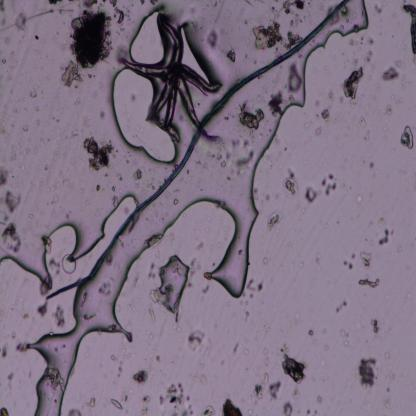Air bubble: (26, 274, 134, 414), (0, 218, 107, 288), (102, 69, 177, 166), (129, 8, 167, 67), (156, 257, 192, 315), (178, 24, 212, 84)
Background material: (69, 9, 111, 69), (81, 136, 114, 172), (158, 382, 193, 414), (250, 23, 284, 52), (400, 2, 416, 56), (281, 353, 307, 385), (238, 101, 265, 130), (357, 356, 378, 393), (342, 67, 364, 101), (2, 221, 24, 254), (60, 60, 84, 89), (282, 167, 302, 201), (266, 90, 284, 118), (266, 209, 286, 233), (186, 327, 206, 351), (203, 25, 221, 50), (288, 63, 303, 92), (320, 81, 336, 108), (60, 256, 79, 278), (221, 397, 244, 415), (321, 172, 337, 197), (400, 123, 414, 151), (335, 326, 351, 350), (4, 192, 23, 212), (234, 151, 254, 170), (0, 53, 15, 78), (382, 64, 401, 83), (111, 1, 126, 25), (282, 0, 307, 14), (13, 9, 28, 32), (357, 275, 381, 289), (190, 369, 211, 385), (246, 277, 264, 295), (286, 27, 303, 46), (364, 35, 374, 65), (358, 250, 373, 270), (54, 305, 67, 327), (268, 380, 283, 399), (337, 294, 351, 314), (341, 251, 356, 269), (304, 183, 318, 202), (113, 357, 125, 378), (36, 299, 50, 317), (0, 163, 10, 188), (132, 370, 149, 384), (100, 280, 112, 298), (251, 384, 266, 398), (201, 402, 216, 416), (368, 319, 381, 335), (376, 229, 389, 245), (111, 186, 121, 206), (319, 108, 331, 124), (147, 305, 156, 326), (374, 3, 388, 16), (148, 262, 158, 280), (282, 399, 294, 414), (110, 398, 123, 411), (226, 50, 238, 64), (230, 340, 239, 358), (2, 372, 16, 382), (131, 168, 142, 180), (0, 403, 10, 415), (200, 284, 210, 296), (358, 117, 367, 130), (261, 373, 270, 386), (362, 129, 370, 143), (0, 344, 8, 357), (316, 394, 324, 406), (20, 125, 29, 135), (0, 1, 6, 16), (315, 126, 323, 137), (89, 396, 96, 408), (368, 162, 377, 171), (354, 193, 361, 204), (30, 90, 38, 98), (35, 32, 41, 42), (221, 160, 227, 170), (172, 196, 178, 206), (156, 354, 162, 364), (305, 409, 312, 416), (308, 329, 314, 336), (24, 312, 30, 318), (97, 184, 101, 192)
Microfibre: (46, 0, 348, 298)
